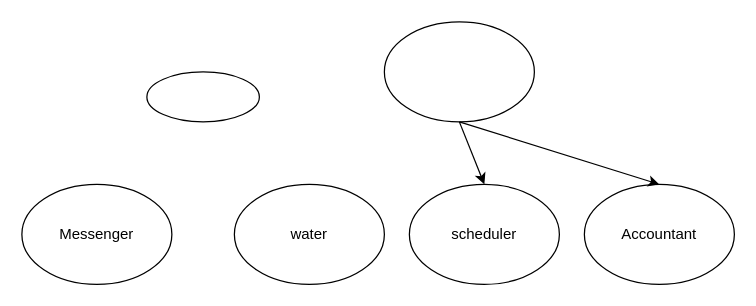
This 756x306 diagram has some shape labels left out. The shapes that lost their labels are listed below. From the top down, each one's box as (x1, y1, x2, y2) in pixels, then its label:
(383, 21, 534, 122): Application
(146, 71, 259, 122): Modules
